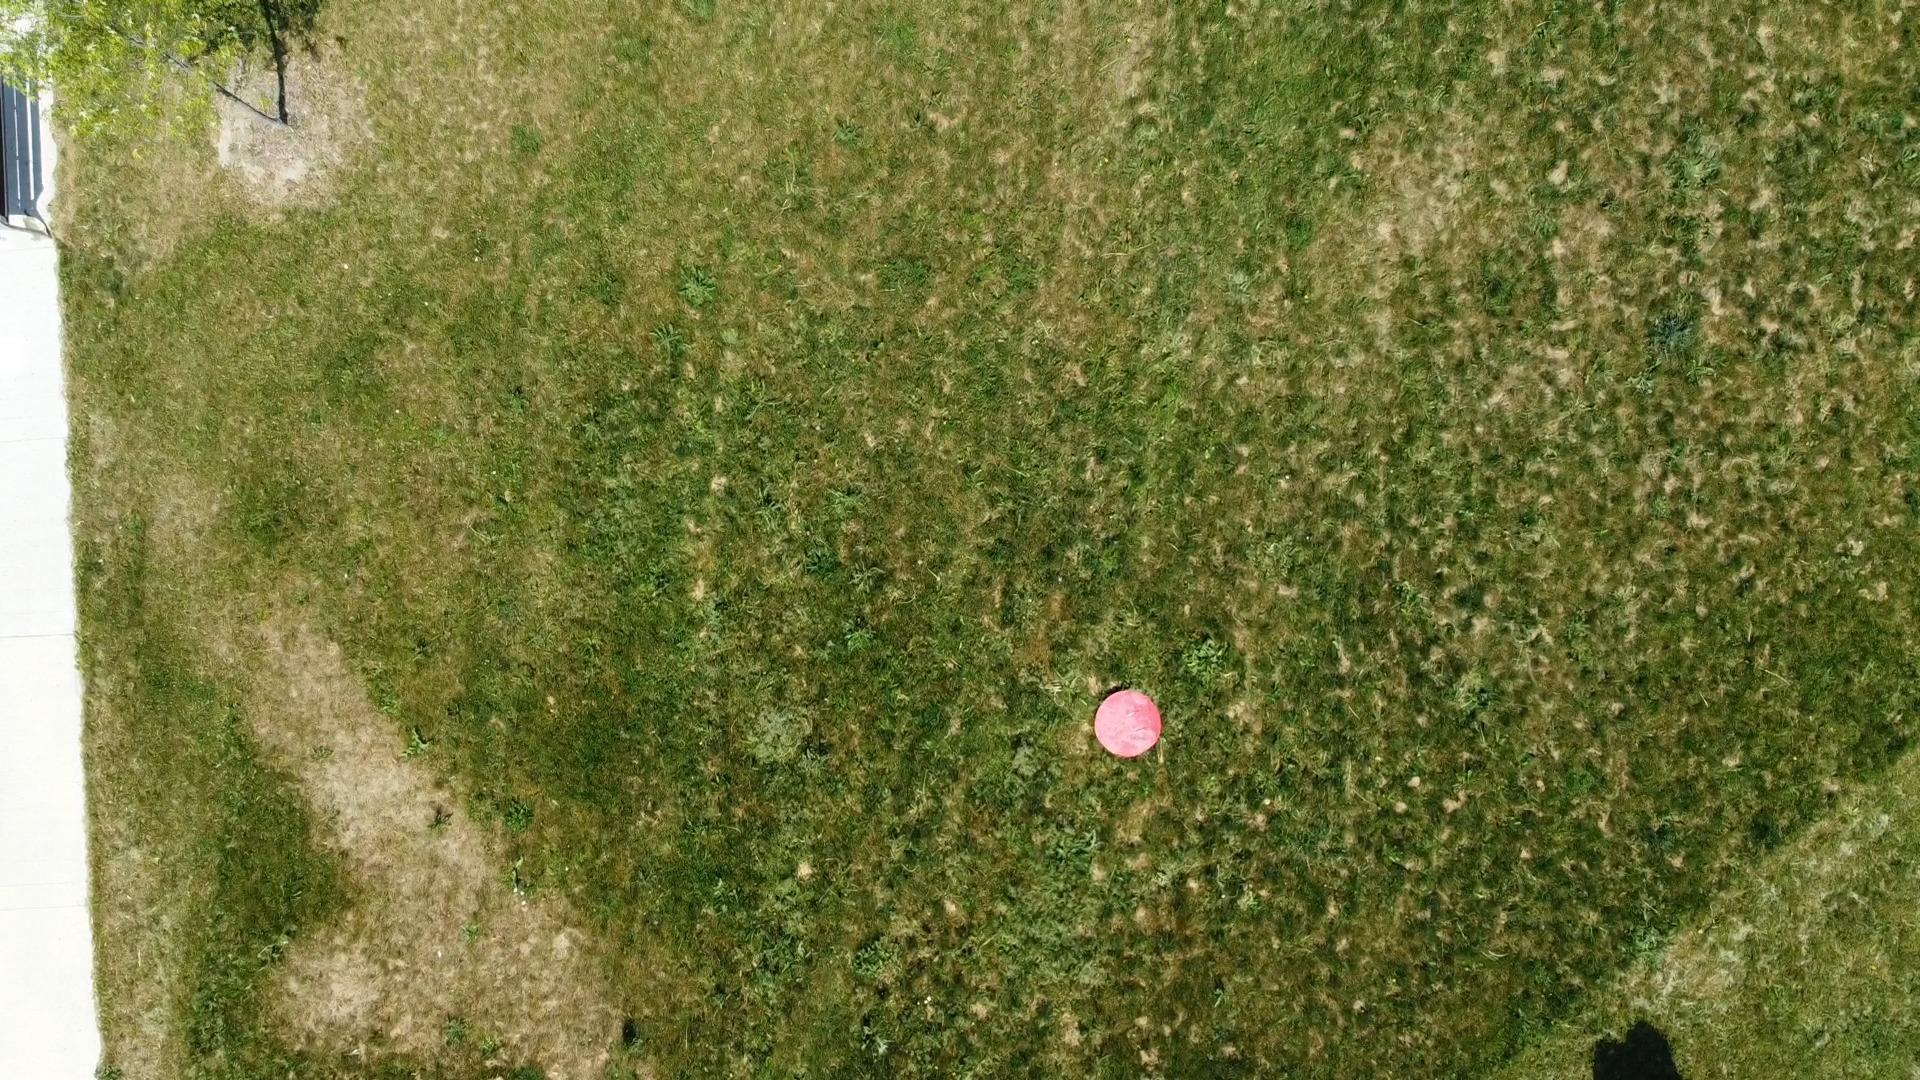Red: (1091, 687, 1166, 762)
